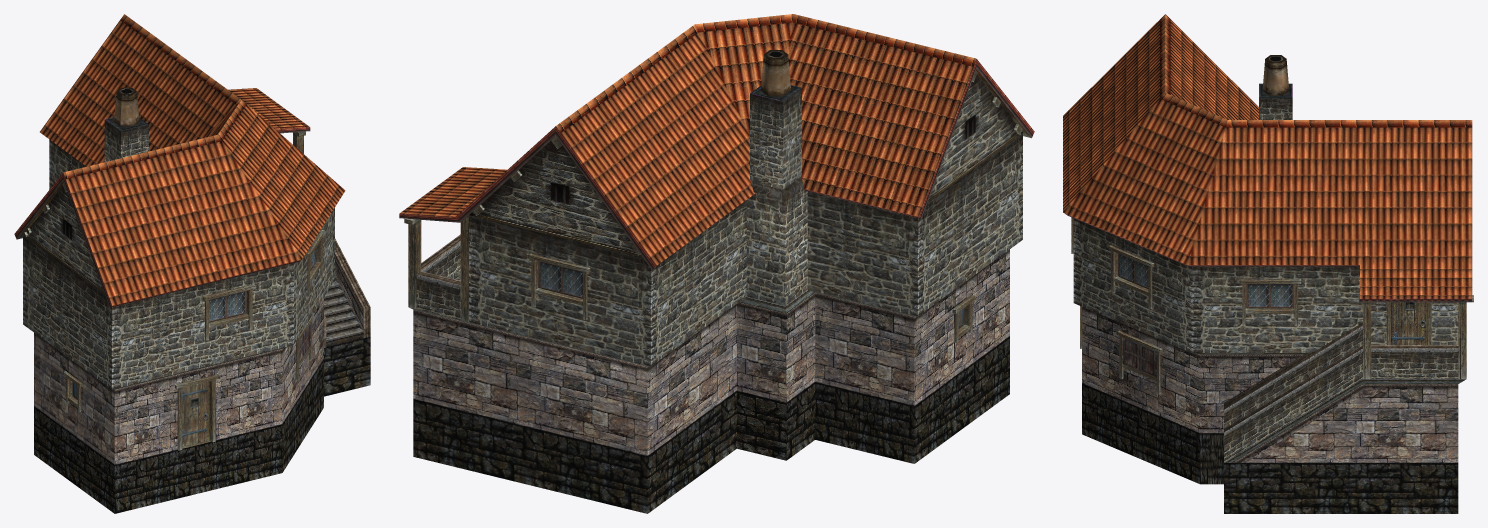
The model's file is S_bld22c.glb.
The picture shows the model from 3 angles, left to right: view 1: azimuth 30°, elevation 25°; view 2: azimuth 150°, elevation 25°; view 3: azimuth 270°, elevation 25°; orthographic projection. The views are drawn at different scales.
Visible parts, largest first — view 1: S_bld22c-col; view 2: S_bld22c-col; view 3: S_bld22c-col.
Part boxes in pixels (bbox=[...]): S_bld22c-col: bbox=[14, 14, 370, 513]; S_bld22c-col: bbox=[399, 14, 1034, 513]; S_bld22c-col: bbox=[1063, 14, 1473, 513].
Bounding box in the file's own units: 14.61 × 13.5 × 14.63.
Materials: 18 (18 with a texture image).
